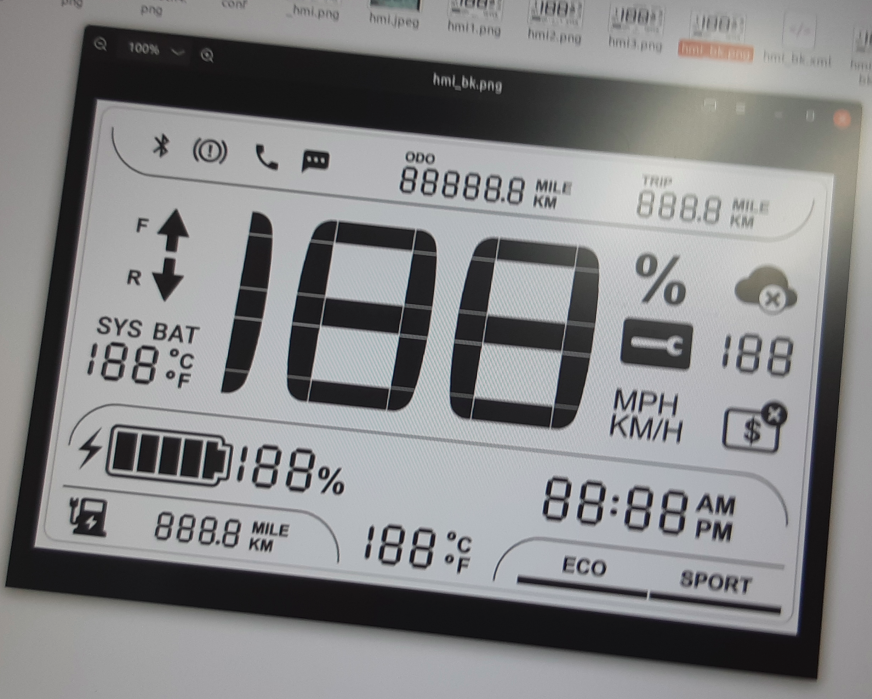bluetooth_on: (147, 129, 175, 162)
braking_on: (188, 132, 231, 169)
calling_on: (250, 139, 285, 175)
connection_lost: (729, 261, 802, 320)
error_code: (617, 313, 696, 374)
low_battery: (65, 493, 112, 541)
sms_on: (297, 145, 334, 178)
vin_id: (719, 400, 790, 457)
